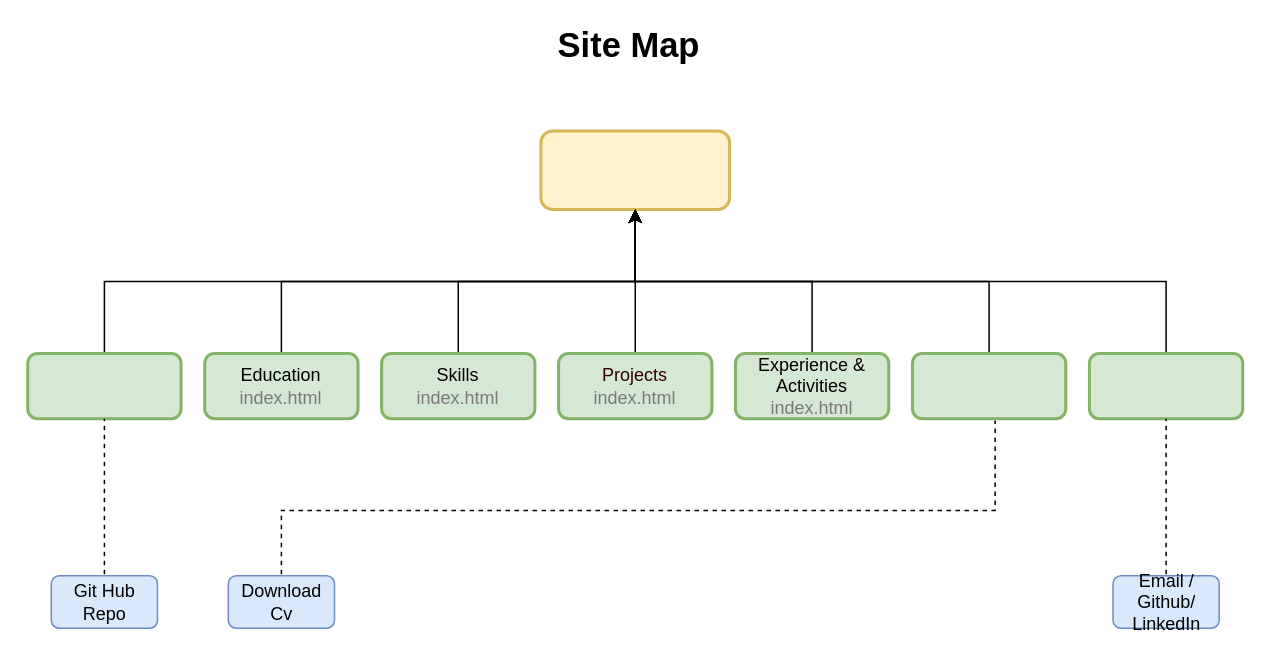
The diagram is 1269 pixels wide and 671 high, and some of its shapes have lost their labels. The shapes that lost their labels are listed below. From the top down, each one's box as (x1, y1, x2, y2) in pixels, then its label:
(539, 129, 730, 210): Home index.html
(26, 351, 182, 420): About Me index.html
(910, 351, 1066, 420): CV index.html
(1087, 351, 1244, 420): Contact & Links index.html
